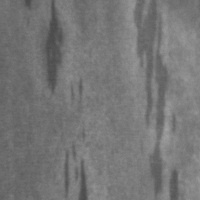inclusion: (128, 1, 182, 199), (60, 75, 90, 200), (41, 1, 66, 96), (20, 1, 34, 27)
